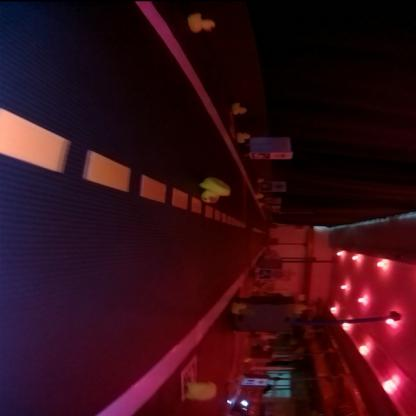Duckie: (202, 180, 230, 203), (186, 382, 216, 400), (191, 13, 215, 32), (232, 302, 246, 312), (234, 103, 247, 113), (238, 133, 246, 143)
Intersection sign: (273, 152, 289, 158)
QR code: (252, 152, 270, 158), (262, 183, 274, 191)
